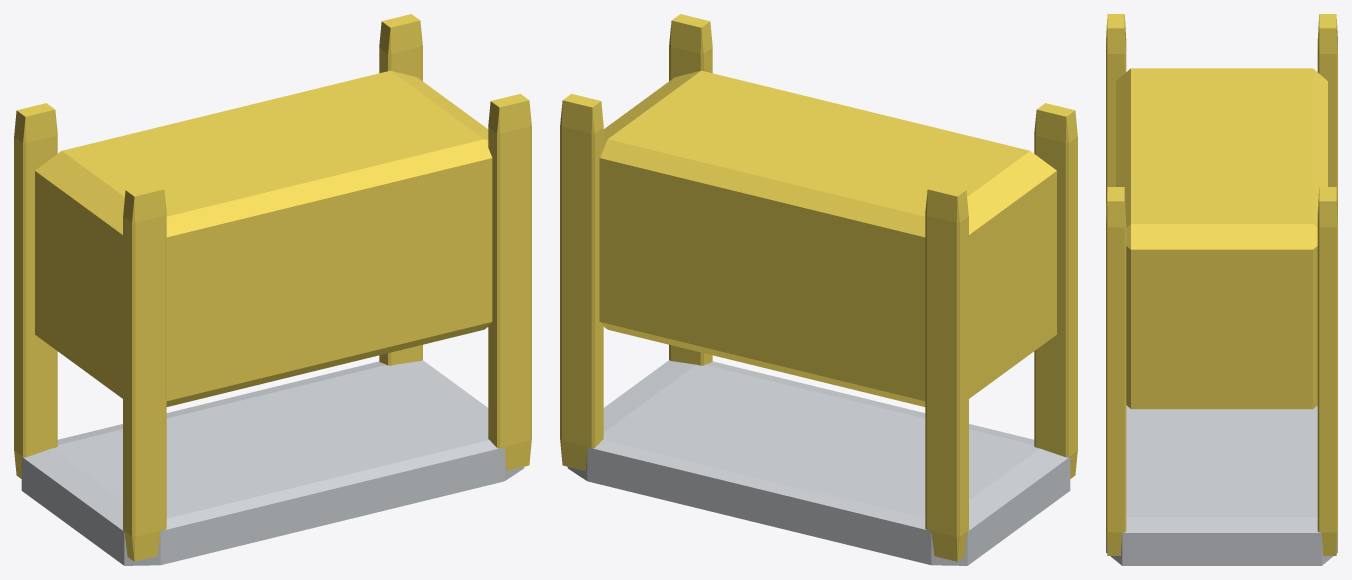
The model's file is b07_braced_wall_formwork_panels.glb.
3 renders of one model, left to right at view 1: azimuth 30°, elevation 25°; view 2: azimuth 150°, elevation 25°; view 3: azimuth 270°, elevation 25°, orthographic. The views are drawn at different scales.
Visible parts, largest first — view 1: b07_braced_wall_formwork_panels; view 2: b07_braced_wall_formwork_panels; view 3: b07_braced_wall_formwork_panels.
Boxes of the visible parts, x1,y1,x2,y2 form: b07_braced_wall_formwork_panels: (14,14,531,565); b07_braced_wall_formwork_panels: (560,14,1077,565); b07_braced_wall_formwork_panels: (1106,14,1337,565).
Size of the model in its own units: 3.64 by 3.28 by 1.88.
